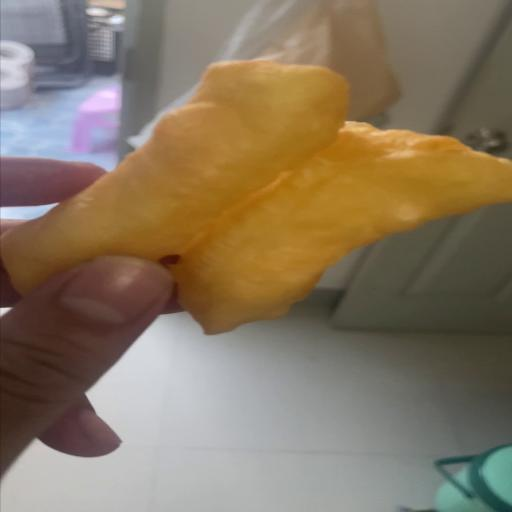street_golden_good: (0, 60, 512, 350)
